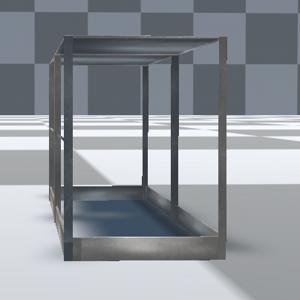Rack: (46, 33, 228, 262)
